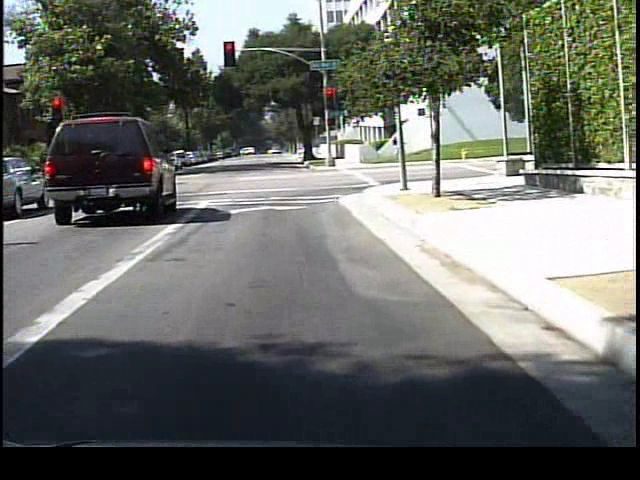person: (389, 127, 409, 166)
